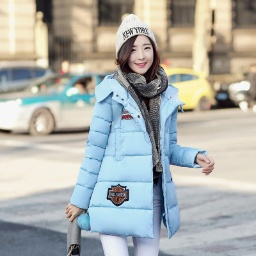face: (109, 29, 174, 89)
